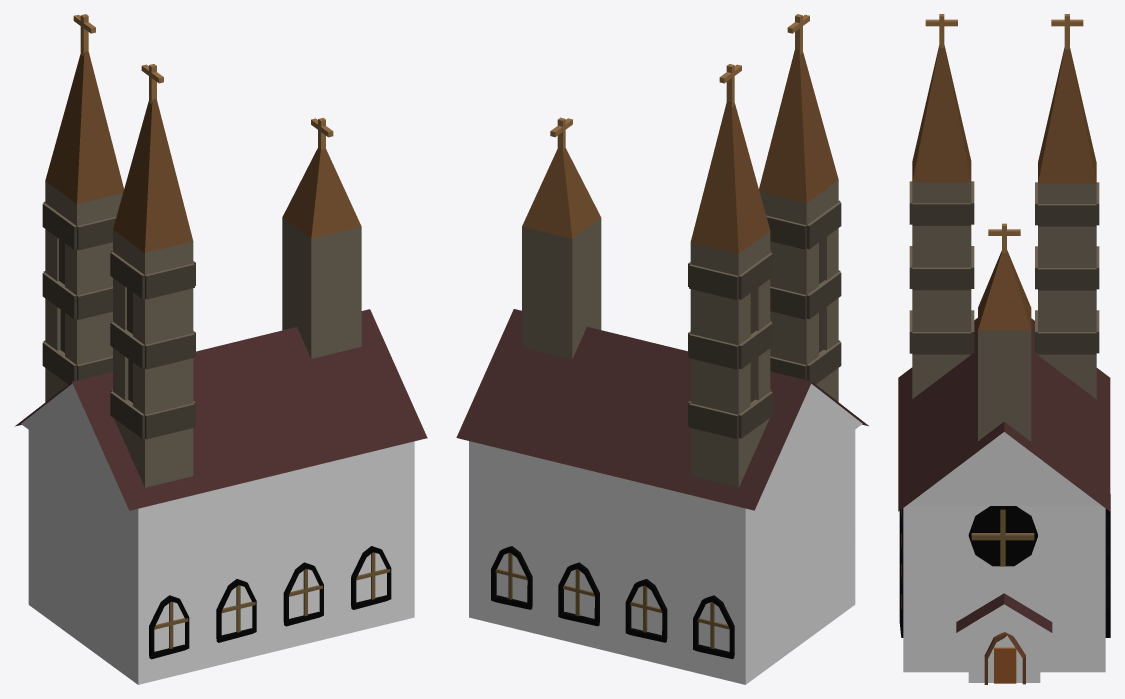
Rendered from ChurchType3.fbx.
3 views of the same model, side by side, from view 1: azimuth 30°, elevation 25°; view 2: azimuth 150°, elevation 25°; view 3: azimuth 270°, elevation 25° (orthographic). The views are drawn at different scales.
Parts seen in each view (by area): view 1: Main Building; view 2: Main Building; view 3: Main Building.
Part boxes in pixels (<box>): Main Building: <box>15,14,427,684</box>; Main Building: <box>456,14,868,684</box>; Main Building: <box>898,14,1110,684</box>.
Size of the model in its own units: 2355 by 4226 by 1483.
